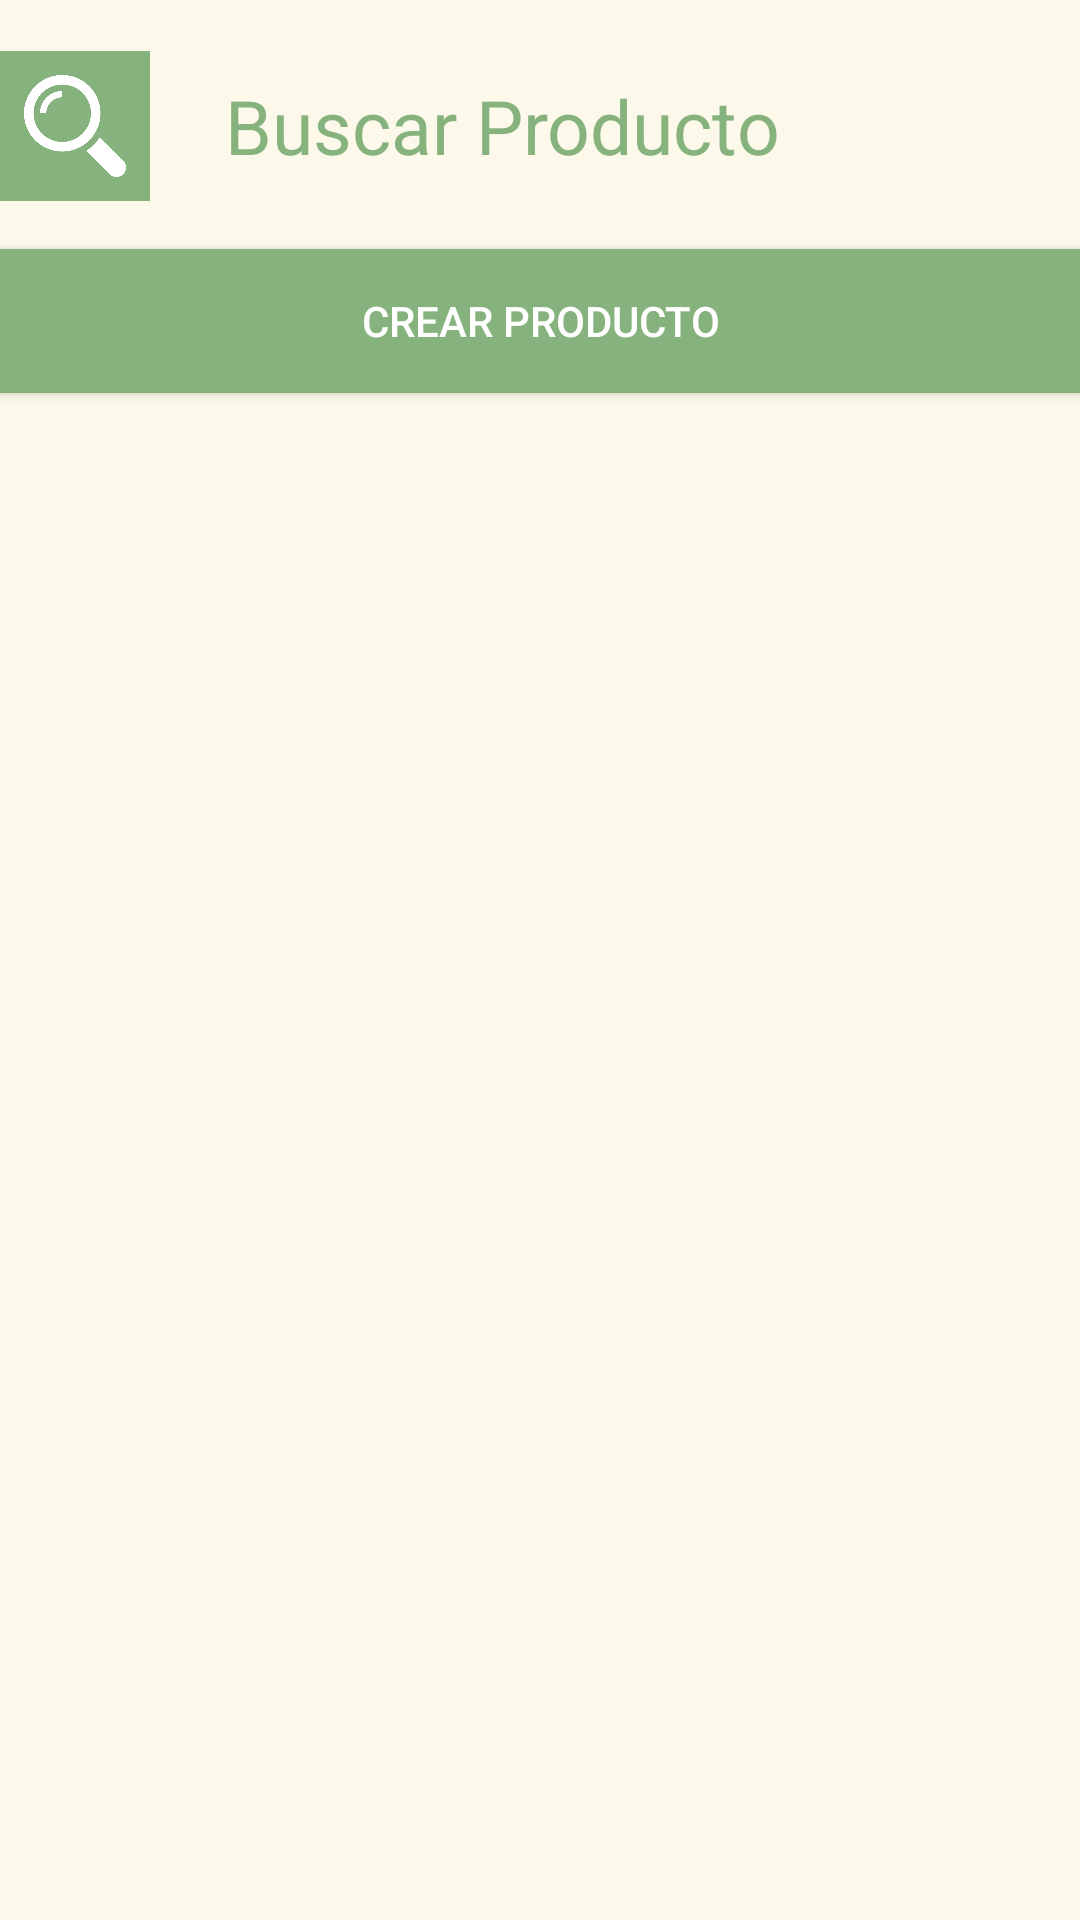

Icon bounding boxes for this 1080 x 1920 phone screenshot, format [x1=x1, y1=y1, x2=x2, y2=y2]:
lupa: [x1=0, y1=51, x2=150, y2=201]
